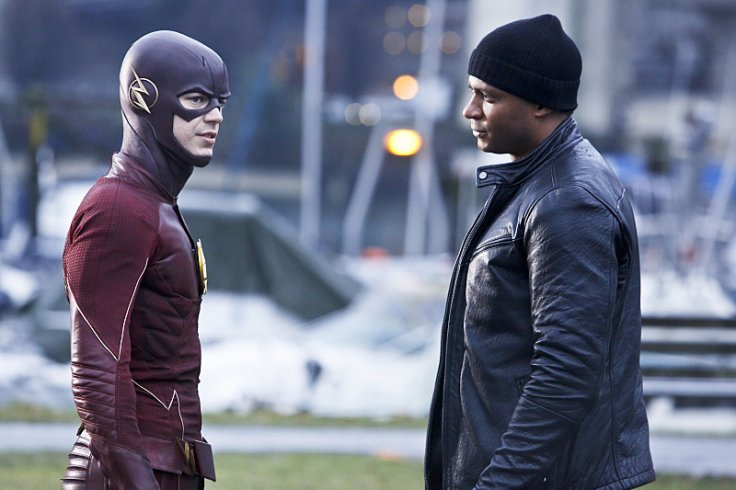Caution: (62, 13, 654, 489)
